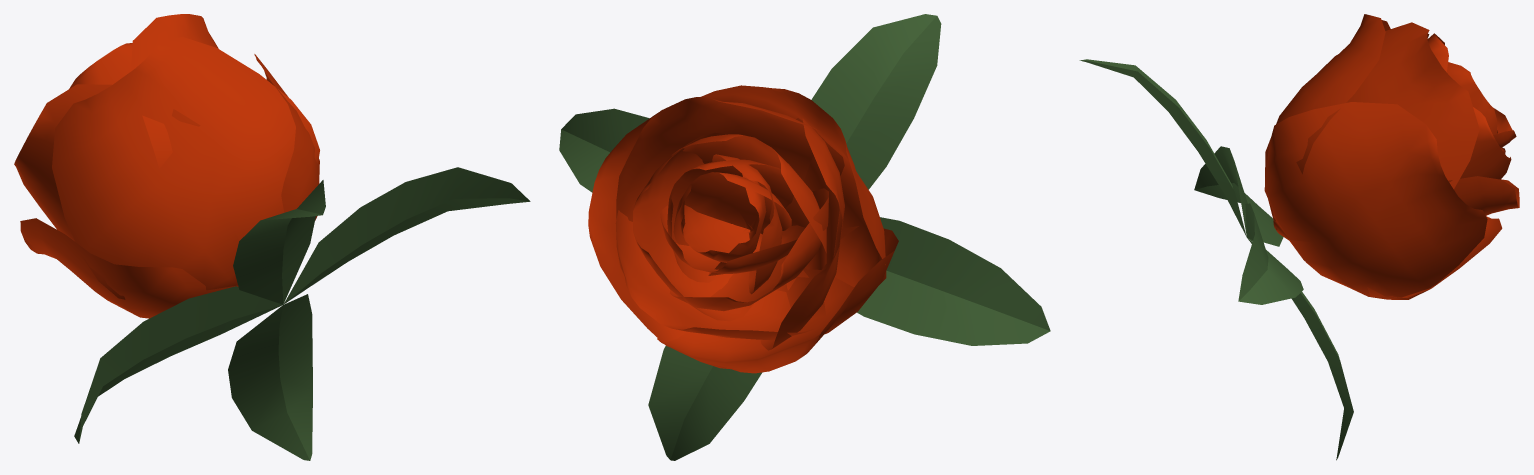
Rendered from Rosas1.1.fbx.
3 renders of one model, left to right at view 1: azimuth 30°, elevation 25°; view 2: azimuth 150°, elevation 25°; view 3: azimuth 270°, elevation 25°, orthographic. The views are drawn at different scales.
Visible parts, largest first — view 1: polySurface215, polySurface499; view 2: polySurface215, polySurface499; view 3: polySurface215, polySurface499.
Boxes of the visible parts, x1,y1,x2,y2 form: polySurface215: [14, 14, 319, 318]; polySurface499: [74, 167, 530, 460]; polySurface215: [588, 85, 898, 373]; polySurface499: [559, 14, 1050, 460]; polySurface215: [1264, 14, 1519, 299]; polySurface499: [1079, 59, 1353, 460].
Bounding box in the file's own units: 6.27 × 5.41 × 5.59.
